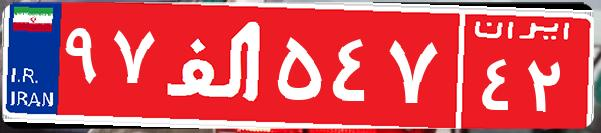2: (525, 38, 570, 115)
4: (330, 28, 385, 110), (475, 38, 525, 113)
5: (273, 28, 330, 110)
7: (385, 28, 445, 110), (110, 28, 158, 105)
9: (57, 26, 110, 107)
الف: (158, 15, 273, 115)
